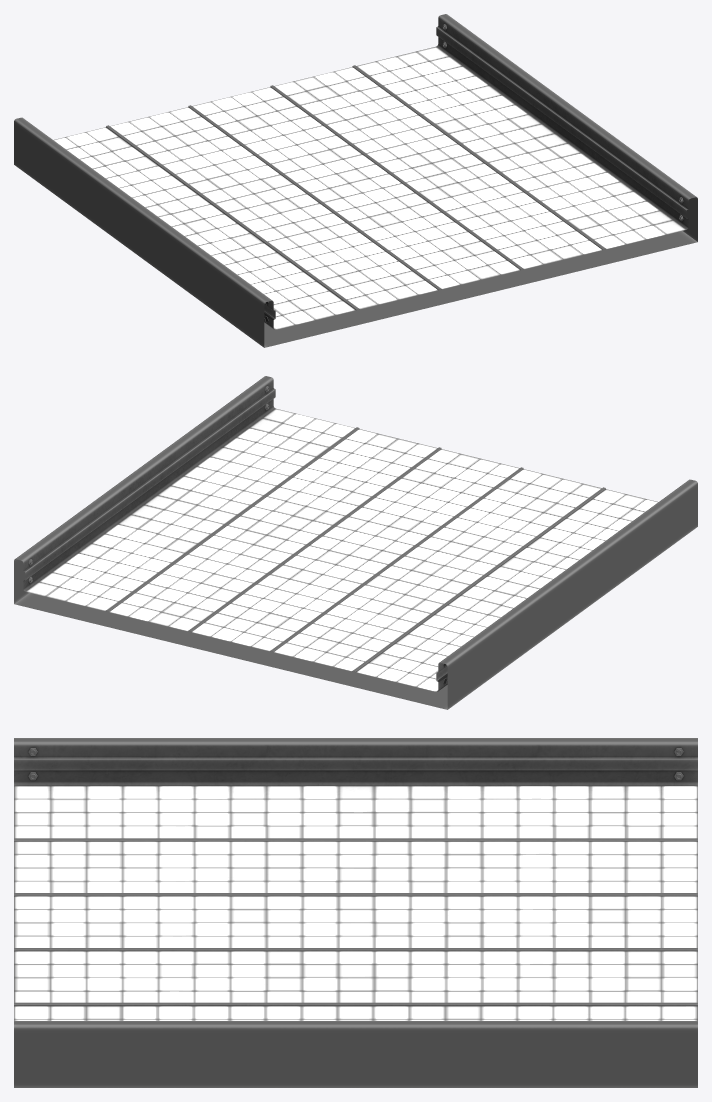
The model's file is Ground.fbx.
3 views of the same model, one above another, from view 1: azimuth 30°, elevation 25°; view 2: azimuth 150°, elevation 25°; view 3: azimuth 270°, elevation 25° (orthographic). The views are drawn at different scales.
Visible parts, largest first — view 1: Object; view 2: Object; view 3: Object.
Boxes of the visible parts, x1,y1,x2,y2 form: Object: (14, 14, 697, 347); Object: (14, 376, 697, 709); Object: (14, 738, 697, 1087).
Bounding box in the file's own units: 30 × 3 × 30.
